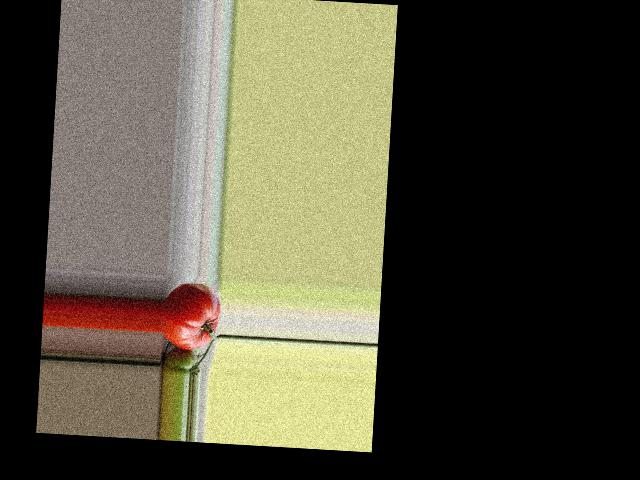tomato: (160, 280, 221, 351)
